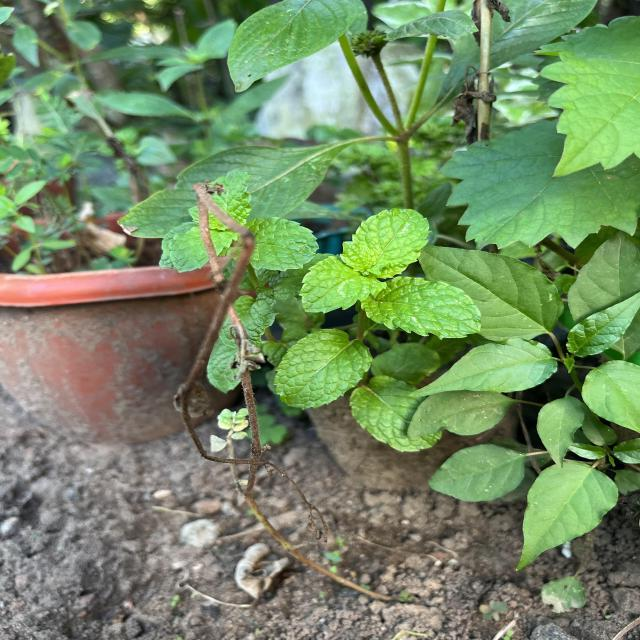Mentha spicata: (272, 328, 373, 410), (360, 276, 482, 341), (339, 207, 434, 280), (298, 254, 388, 315)
